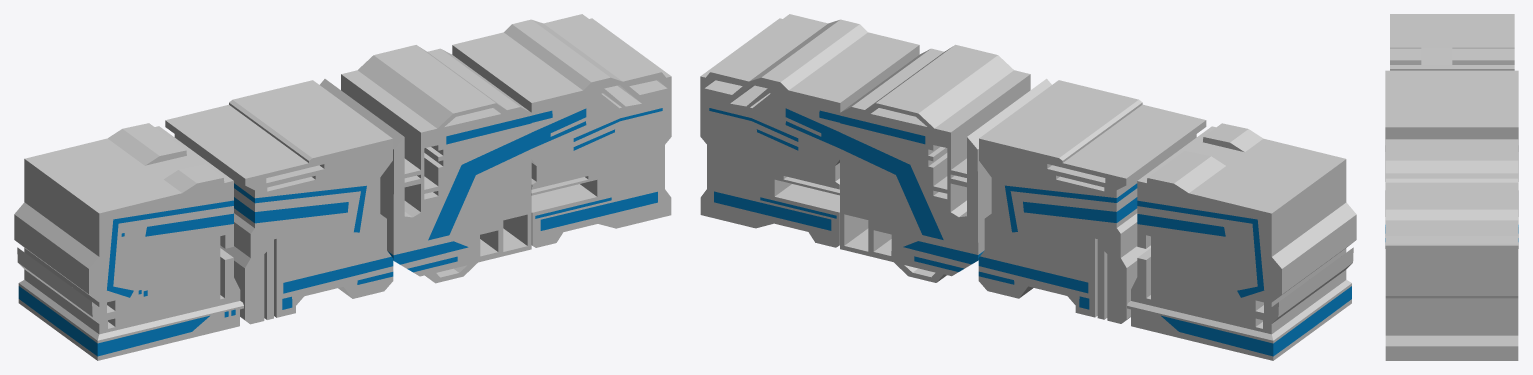
3 renders of one model, left to right at view 1: azimuth 30°, elevation 25°; view 2: azimuth 150°, elevation 25°; view 3: azimuth 270°, elevation 25°, orthographic. The views are drawn at different scales.
Parts seen in each view (by area): view 1: Plane.023; view 2: Plane.023; view 3: Plane.023.
Part boxes in pixels (x1,y1,x2,y2): Plane.023: (14, 14, 671, 360); Plane.023: (700, 14, 1356, 360); Plane.023: (1385, 14, 1518, 360).
Bounding box in the file's own units: 962 × 262 × 230.
